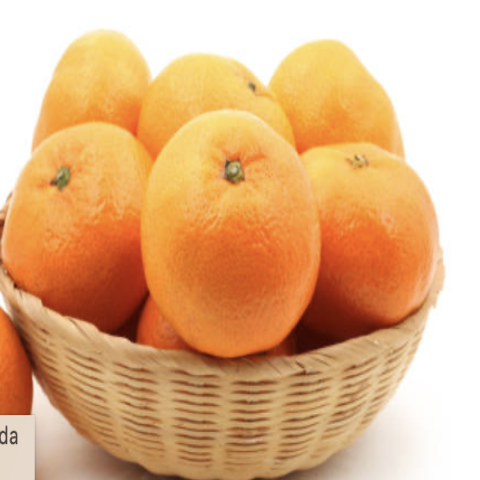orange: (135, 101, 332, 356), (269, 127, 476, 334), (5, 104, 162, 357)
